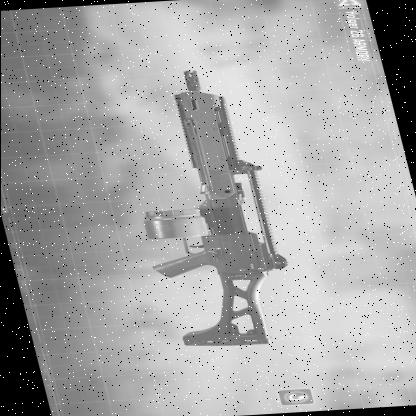rifle: (84, 70, 310, 359)
